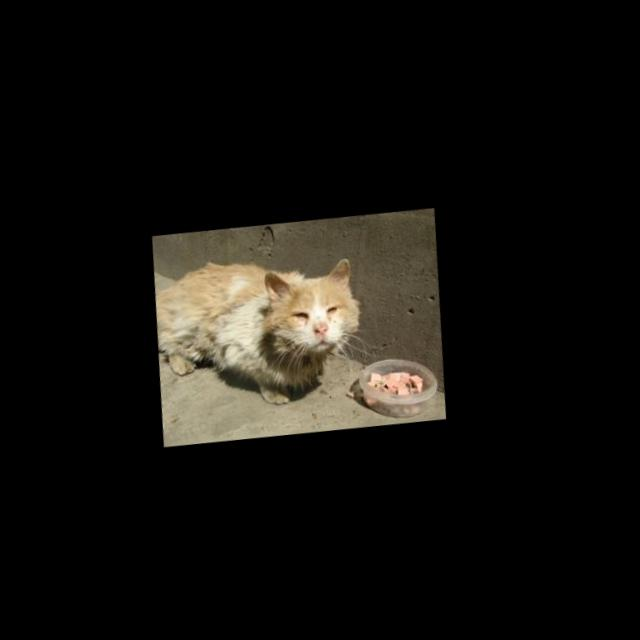animals: (148, 235, 376, 420)
